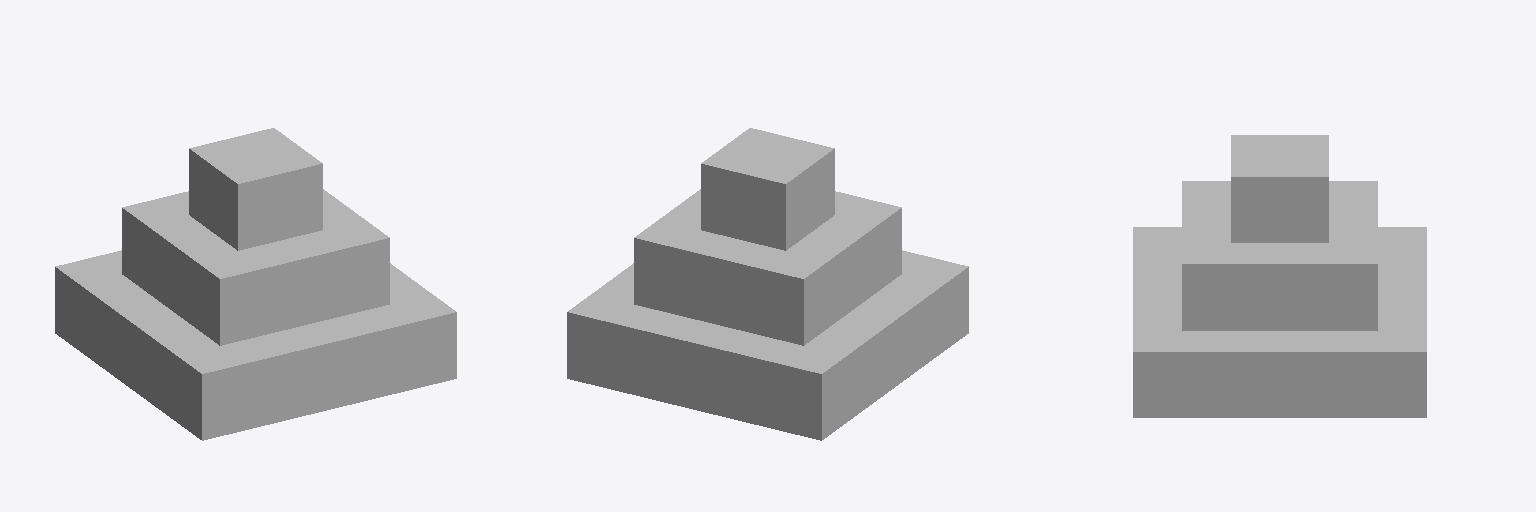
File: poop.obj
The picture shows the model from 3 angles: view 1: azimuth 30°, elevation 25°; view 2: azimuth 150°, elevation 25°; view 3: azimuth 270°, elevation 25°; orthographic projection.
Bounding box in the file's own units: 12 × 9 × 12.